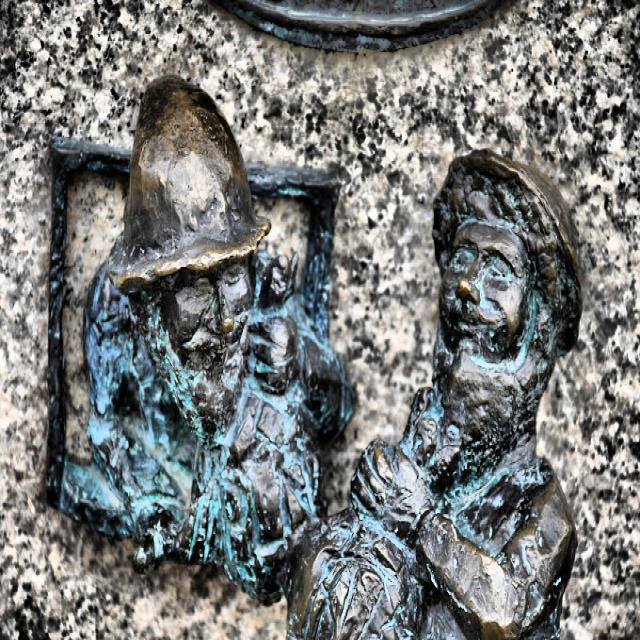Kantorki: (48, 77, 581, 638)
